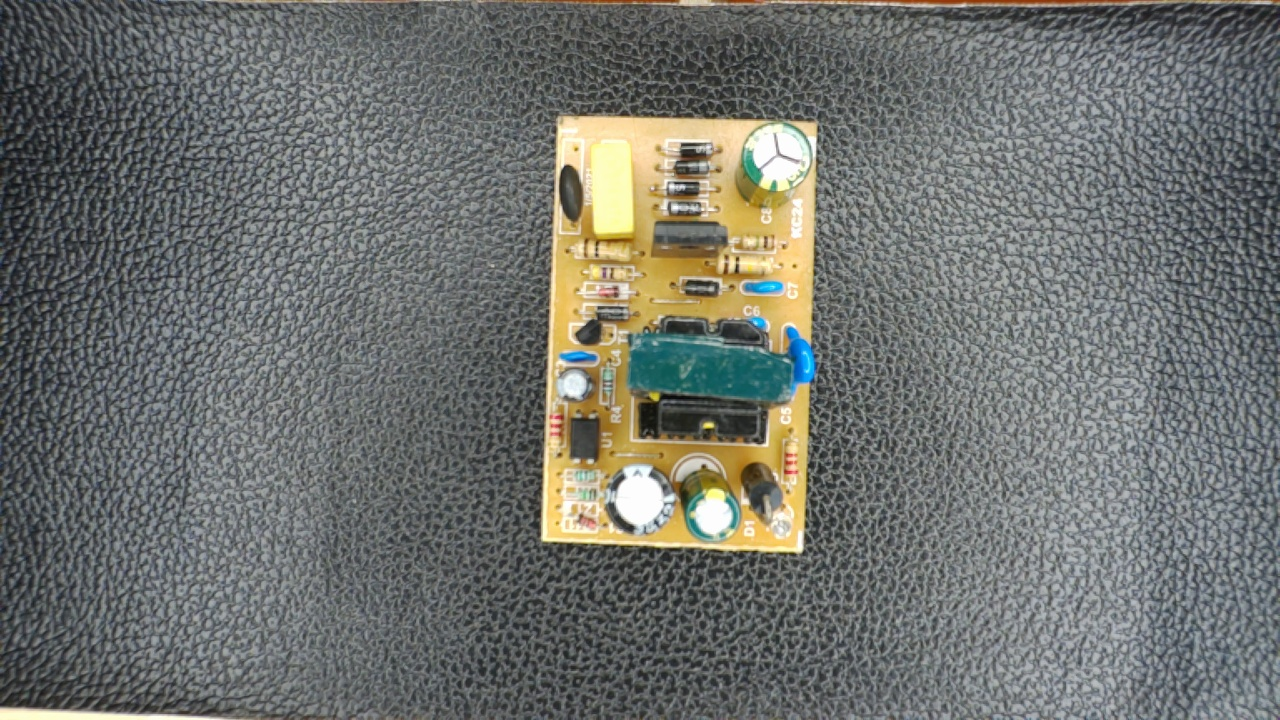fuse: (558, 158, 585, 231)
hv_capacitor: (734, 119, 810, 204)
mov: (780, 318, 812, 390)
optocoupler: (572, 411, 600, 465)
